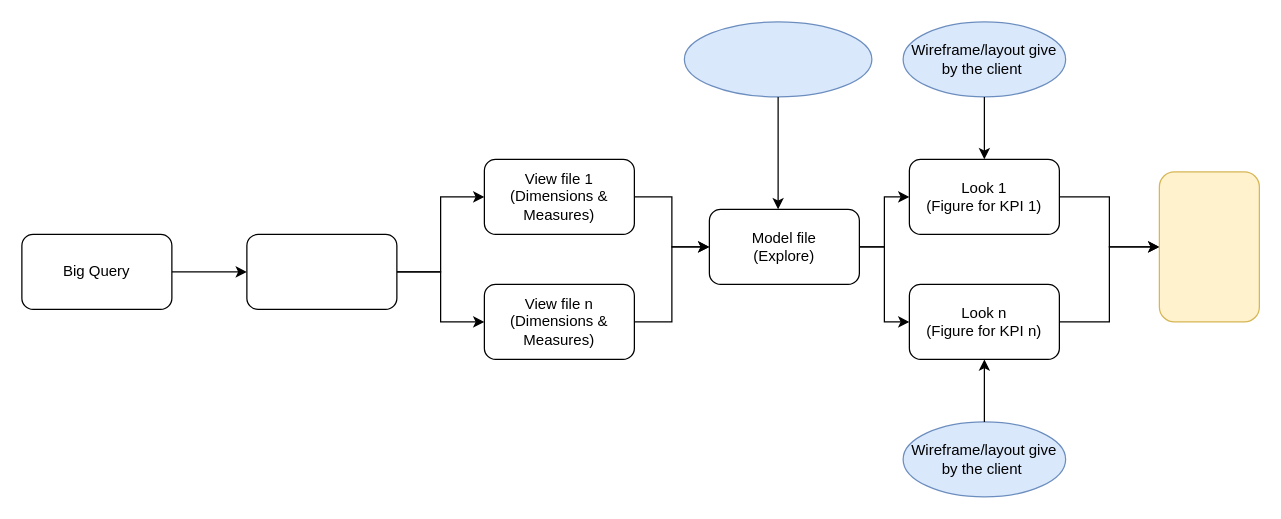
The diagram is 1281 pixels wide and 519 high, and some of its shapes have lost their labels. Here are the shapes that lost their labels. From the top down, the centre of each, then its label:
At (777,59): "Correlation between different matrices to join them".
At (1208,246): "Dashboard 1".
At (321,271): "Looker Admin".
